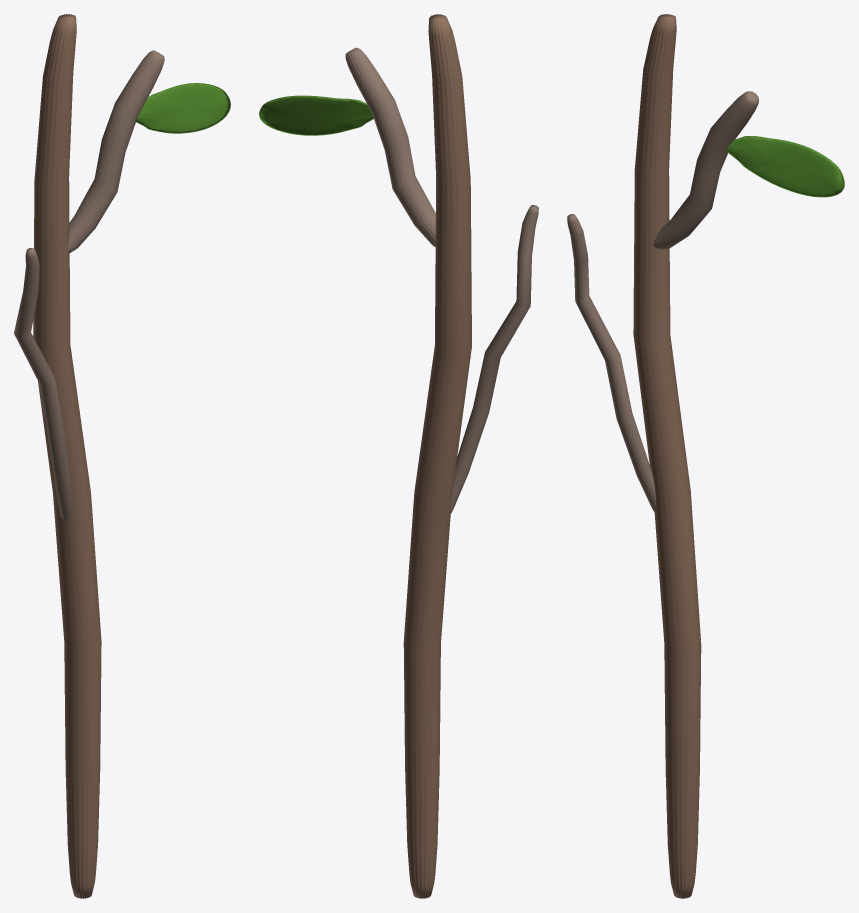
The model's file is twig.fbx.
3 views of the same model, side by side, from view 1: azimuth 30°, elevation 25°; view 2: azimuth 150°, elevation 25°; view 3: azimuth 330°, elevation 25° (orthographic).
Parts seen in each view (by area): view 1: pCylinder1, pasted__pCylinder1, pasted__pasted__pCylinder1, pCylinder2; view 2: pCylinder1, pasted__pCylinder1, pasted__pasted__pCylinder1, pCylinder2; view 3: pCylinder1, pasted__pasted__pCylinder1, pCylinder2, pasted__pCylinder1.
Part boxes in pixels (box(x1,y1,x2,y2)): pCylinder1: box(33, 14, 101, 898); pasted__pCylinder1: box(67, 50, 164, 253); pasted__pasted__pCylinder1: box(14, 248, 72, 520); pCylinder2: box(136, 83, 230, 133); pCylinder1: box(403, 14, 471, 898); pasted__pCylinder1: box(345, 47, 435, 246); pasted__pasted__pCylinder1: box(450, 205, 538, 513); pCylinder2: box(259, 95, 373, 135); pCylinder1: box(633, 14, 701, 898); pasted__pasted__pCylinder1: box(567, 214, 655, 512); pCylinder2: box(726, 136, 844, 197); pasted__pCylinder1: box(653, 91, 758, 249).
Size of the model in its own units: 3.63 by 12.6 by 1.09.
